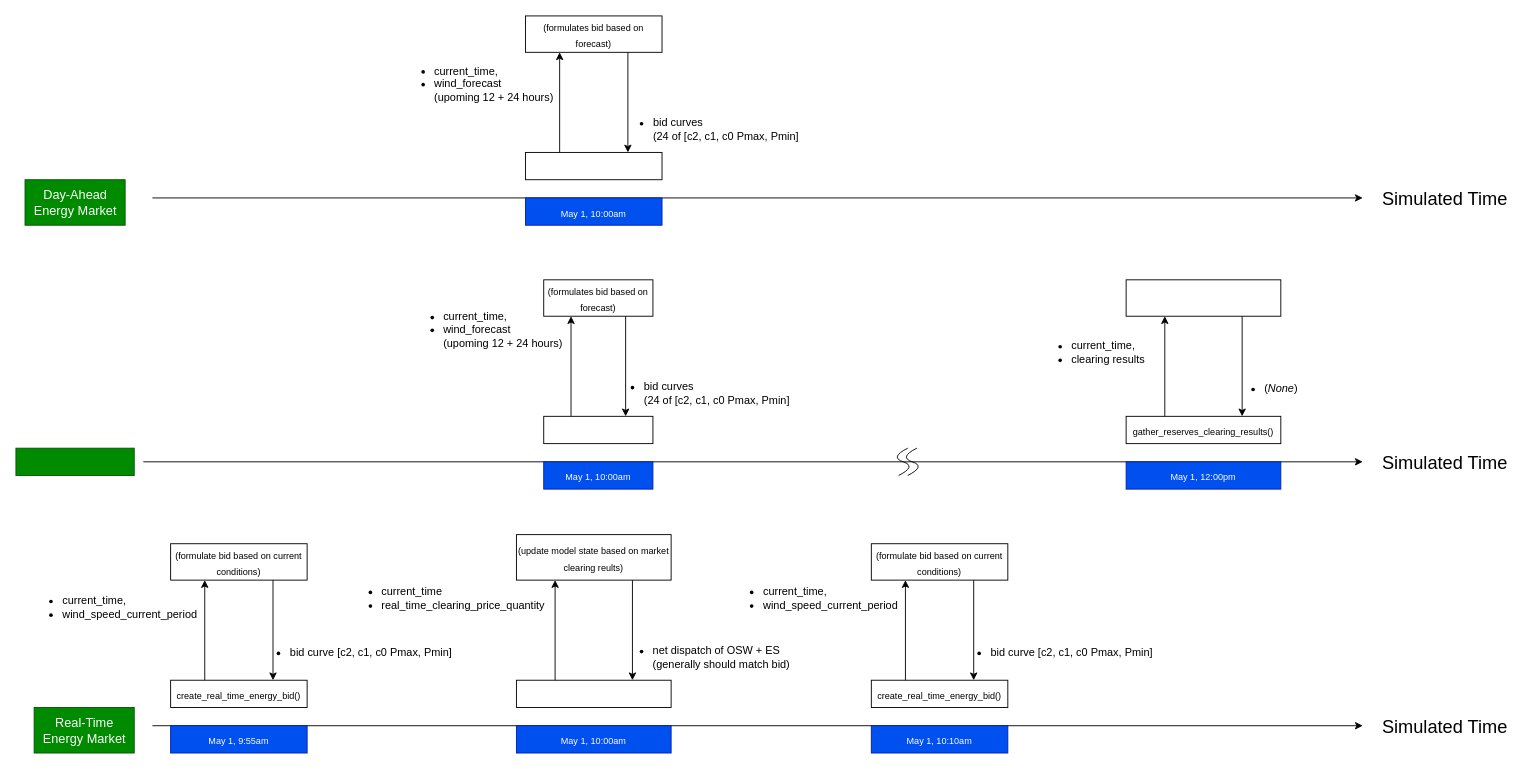
Image size: 1533x769. Some labels were removed from this diagram. The box of each missing label's shape, as (x1, y1, x2, y2) in pixels:
(use reserve market results in RT bids): (1125, 279, 1281, 316)
create_day_ahead_energy_bid(): (525, 152, 662, 180)
create_dispatch(): (516, 679, 671, 708)
create_reserves_bid(): (543, 415, 653, 444)
Reserves Market: (15, 447, 134, 475)
